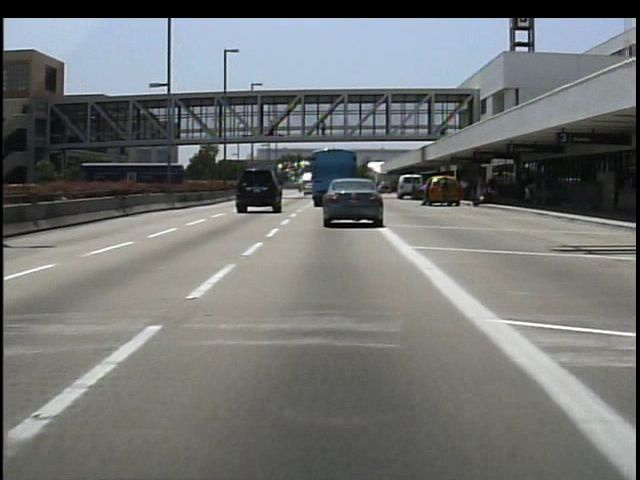person: (439, 176, 456, 211), (317, 117, 331, 142), (267, 115, 281, 137)
